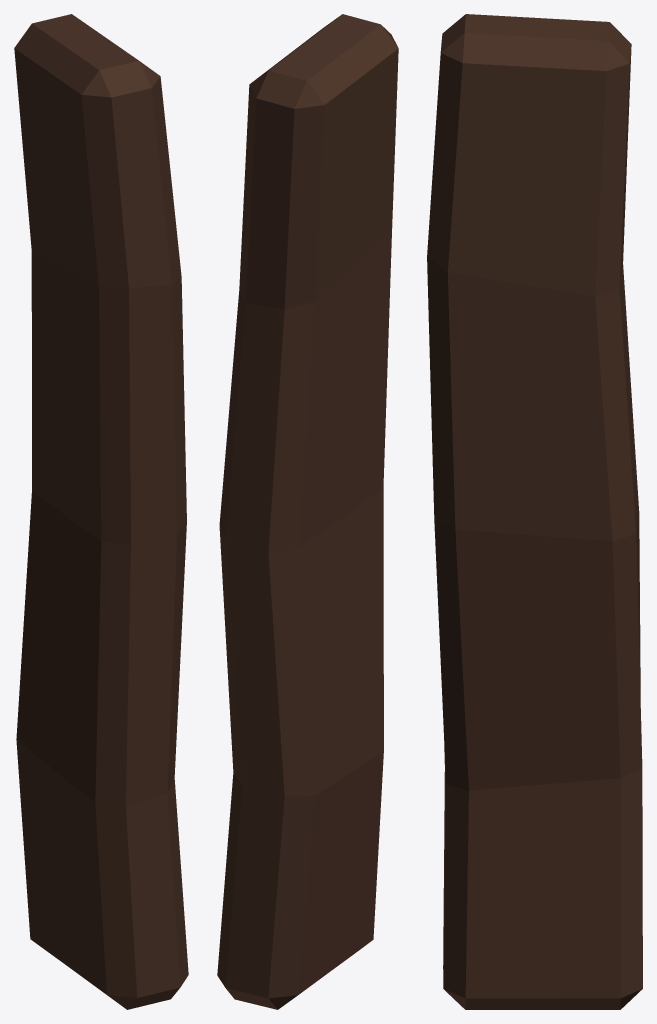
File: wood1.fbx
The picture shows the model from 3 angles, left to right: view 1: azimuth 30°, elevation 25°; view 2: azimuth 150°, elevation 25°; view 3: azimuth 270°, elevation 25°; orthographic projection. The views are drawn at different scales.
Visible parts, largest first — view 1: Cube; view 2: Cube; view 3: Cube.
Part boxes in pixels (x1,y1,x2,y2): Cube: [14, 14, 188, 1009]; Cube: [217, 14, 398, 1009]; Cube: [427, 14, 642, 1009].
Bounding box in the file's own units: 22.68 × 189 × 38.51.
